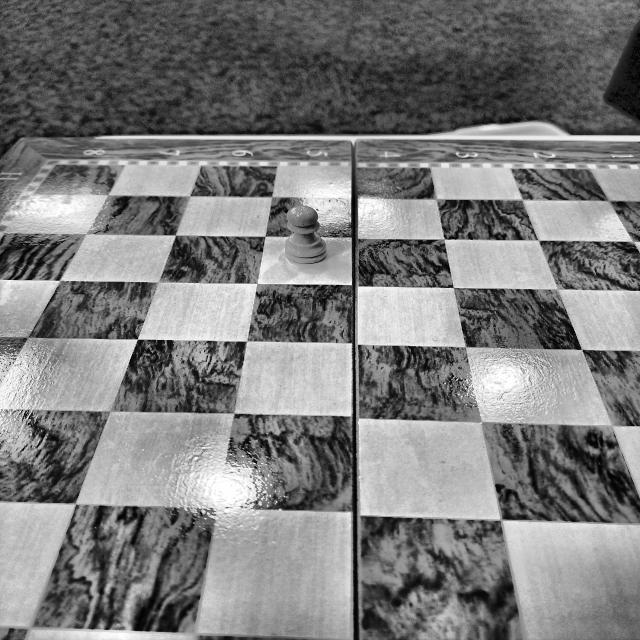white-pawn: (285, 206, 327, 263)
